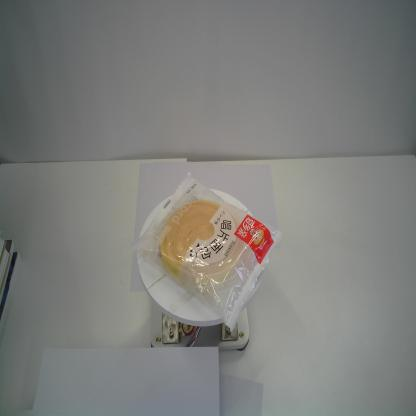Dessert: (130, 172, 283, 334)
